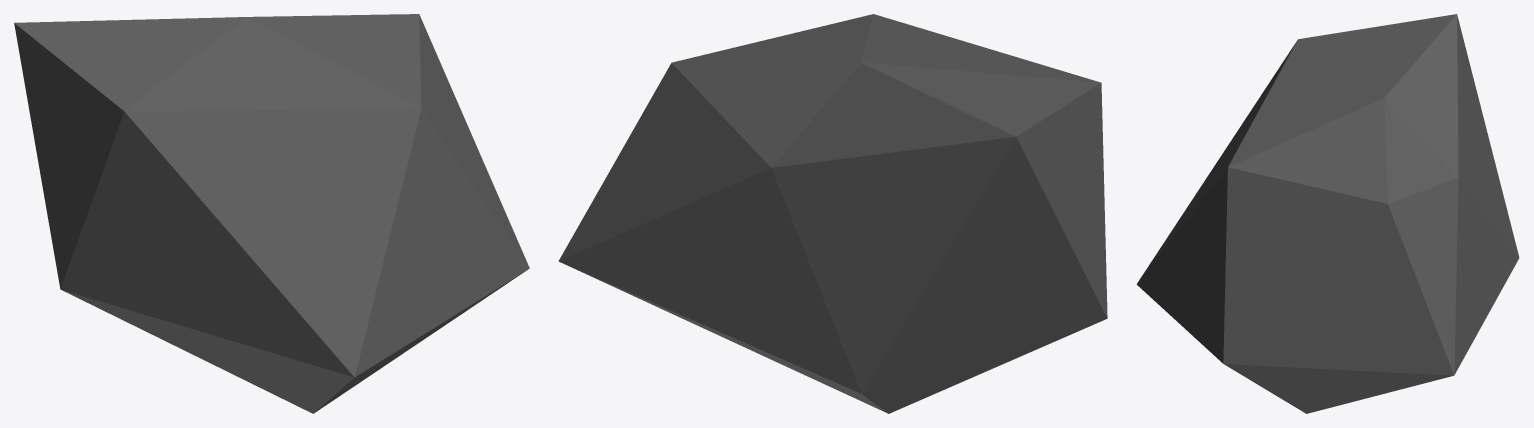
The model's file is Rock_4.fbx.
3 renders of one model, left to right at view 1: azimuth 30°, elevation 25°; view 2: azimuth 150°, elevation 25°; view 3: azimuth 270°, elevation 25°, orthographic. The views are drawn at different scales.
Parts seen in each view (by area): view 1: M_Rock 4; view 2: M_Rock 4; view 3: M_Rock 4.
Boxes of the visible parts, box(x1,y1,x2,y2) form: M_Rock 4: box(14, 14, 529, 413); M_Rock 4: box(558, 14, 1107, 413); M_Rock 4: box(1136, 14, 1519, 413).
Bounding box in the file's own units: 0.3047 × 0.2437 × 0.2689.
Materials: 1 (1 with a texture image).
